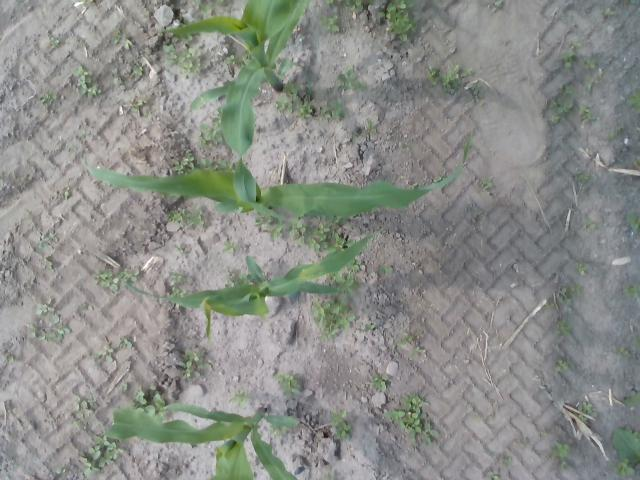Maize: (82, 124, 474, 217), (162, 0, 310, 222), (125, 228, 383, 344), (106, 399, 300, 480)
Weeds: (382, 390, 438, 445), (30, 298, 76, 344), (288, 216, 344, 253), (78, 434, 125, 478), (312, 297, 356, 343), (379, 0, 420, 42), (610, 426, 640, 476), (161, 43, 203, 74), (426, 65, 472, 93), (179, 348, 216, 382), (94, 265, 136, 294), (550, 82, 577, 126), (128, 388, 165, 420), (168, 204, 205, 230), (75, 65, 102, 99), (546, 283, 582, 308), (199, 116, 223, 151), (273, 81, 299, 113), (336, 66, 369, 90), (396, 332, 426, 358), (256, 214, 284, 241), (329, 410, 352, 440), (74, 392, 102, 416), (272, 372, 300, 396), (562, 39, 583, 70), (318, 97, 346, 120), (112, 22, 134, 51), (329, 272, 358, 294), (170, 149, 196, 172), (91, 344, 116, 366), (576, 402, 598, 425), (552, 442, 570, 469), (125, 97, 148, 118), (194, 0, 224, 16), (318, 13, 340, 34), (39, 229, 60, 251), (327, 0, 378, 9), (228, 388, 252, 407), (200, 156, 227, 170), (370, 372, 391, 390), (556, 316, 572, 338), (38, 90, 58, 107), (627, 87, 640, 113), (578, 100, 592, 124), (480, 0, 506, 12), (622, 394, 640, 410), (168, 270, 186, 286), (112, 66, 125, 88), (626, 212, 640, 232), (481, 176, 496, 194), (622, 283, 638, 299), (498, 453, 515, 468), (117, 336, 134, 351), (472, 81, 484, 102), (270, 426, 288, 440), (166, 286, 186, 298), (224, 266, 236, 286), (222, 239, 238, 254), (298, 101, 312, 118), (132, 60, 146, 77), (608, 126, 624, 140), (4, 350, 18, 366), (556, 358, 569, 374), (42, 258, 55, 274), (574, 262, 588, 276), (238, 52, 252, 66), (583, 55, 596, 70), (238, 270, 250, 286), (367, 118, 378, 134), (518, 437, 531, 450), (46, 36, 60, 48), (171, 34, 192, 42), (361, 323, 376, 334), (582, 221, 598, 231), (472, 208, 482, 224), (56, 466, 72, 476), (603, 7, 616, 19), (613, 346, 628, 356), (225, 54, 237, 66), (61, 184, 70, 200), (348, 258, 360, 270), (435, 173, 448, 184), (585, 78, 595, 92), (488, 470, 502, 480), (380, 264, 392, 275), (578, 172, 591, 182), (538, 424, 548, 436), (175, 243, 188, 252), (74, 418, 87, 427), (351, 130, 358, 146), (120, 382, 131, 392), (326, 470, 336, 480), (89, 217, 98, 228), (80, 130, 92, 138), (77, 0, 96, 5), (148, 108, 156, 118), (400, 141, 408, 150), (634, 337, 640, 346), (630, 0, 640, 5), (636, 157, 640, 164)
